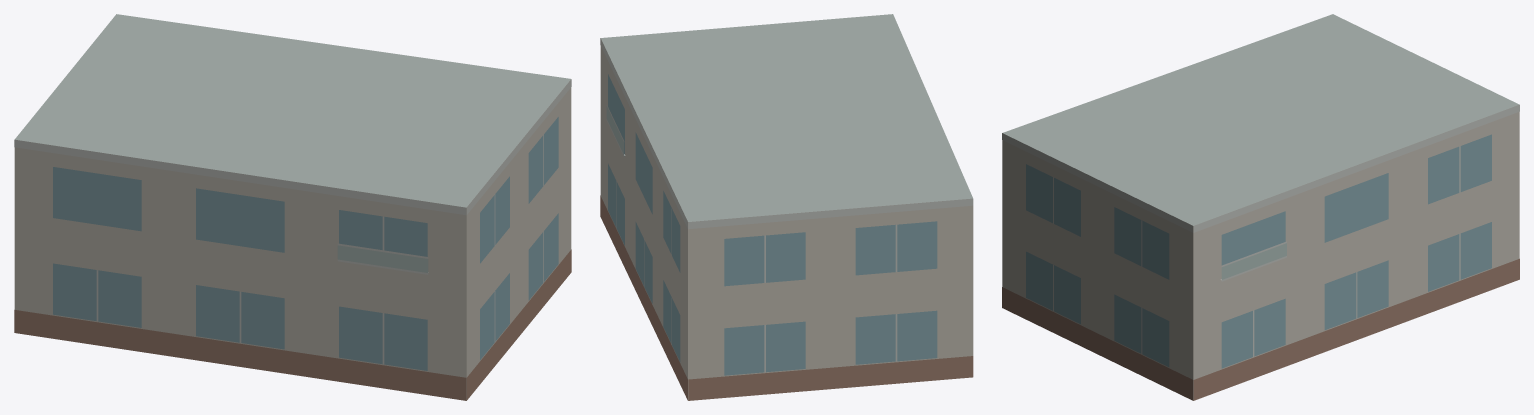
Rendered from survey-upis-32712161.glb.
The picture shows the model from 3 angles, left to right: view 1: azimuth 30°, elevation 25°; view 2: azimuth 150°, elevation 25°; view 3: azimuth 270°, elevation 25°; orthographic projection. The views are drawn at different scales.
Visible parts, largest first — view 1: survey-upis-32712161.tmp; view 2: survey-upis-32712161.tmp; view 3: survey-upis-32712161.tmp.
Part boxes in pixels (<box>): survey-upis-32712161.tmp: <box>14,14,571,400</box>; survey-upis-32712161.tmp: <box>600,14,973,400</box>; survey-upis-32712161.tmp: <box>1002,14,1519,400</box>.
Size of the model in its own units: 15.86 by 6.1 by 16.37.
